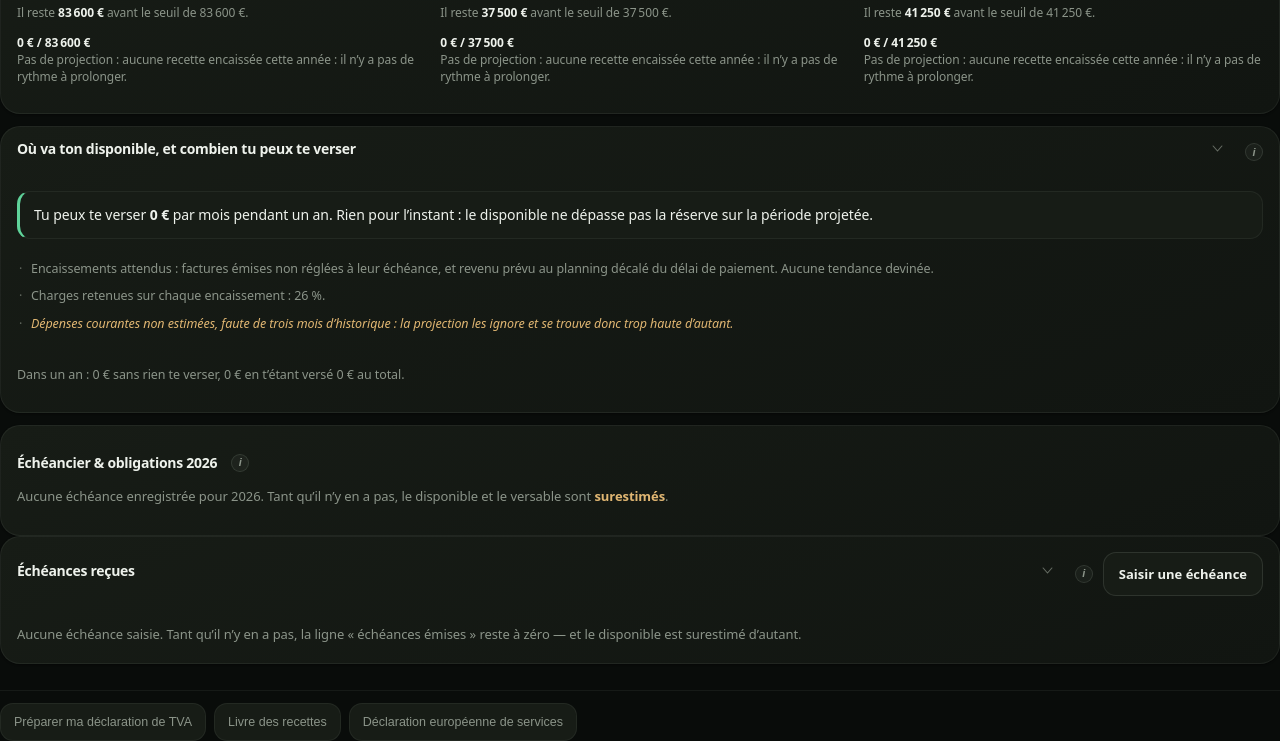
Test case: dossier de déclaration de TVA › permet de reculer d’un trimestre
(page scrolled)
Click the button "Préparer ma déclaration de TVA" at (103, 722), box [0,703,206,740]
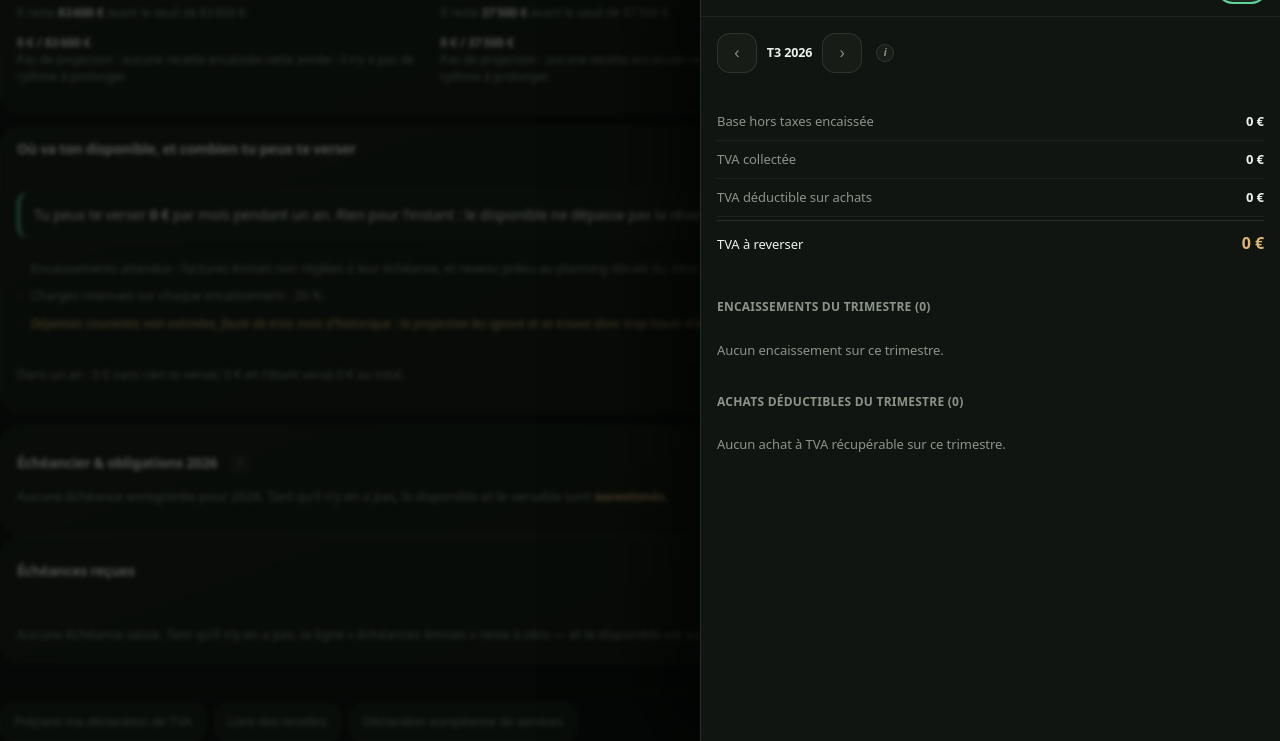
Click the button named "Trimestre précédent" at (737, 53), box [717,33,757,73]
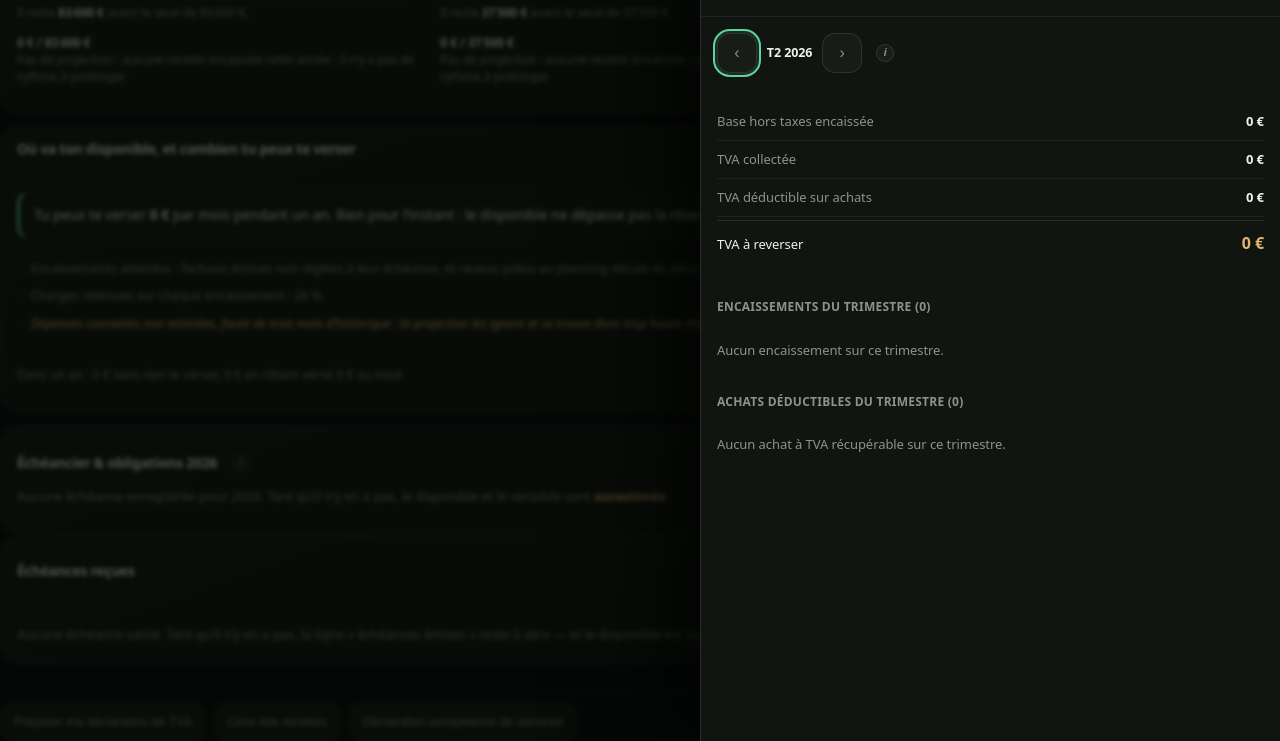
Now the message named "Trimestre déclaré" reads "T2 2026", box [767,44,812,61]
